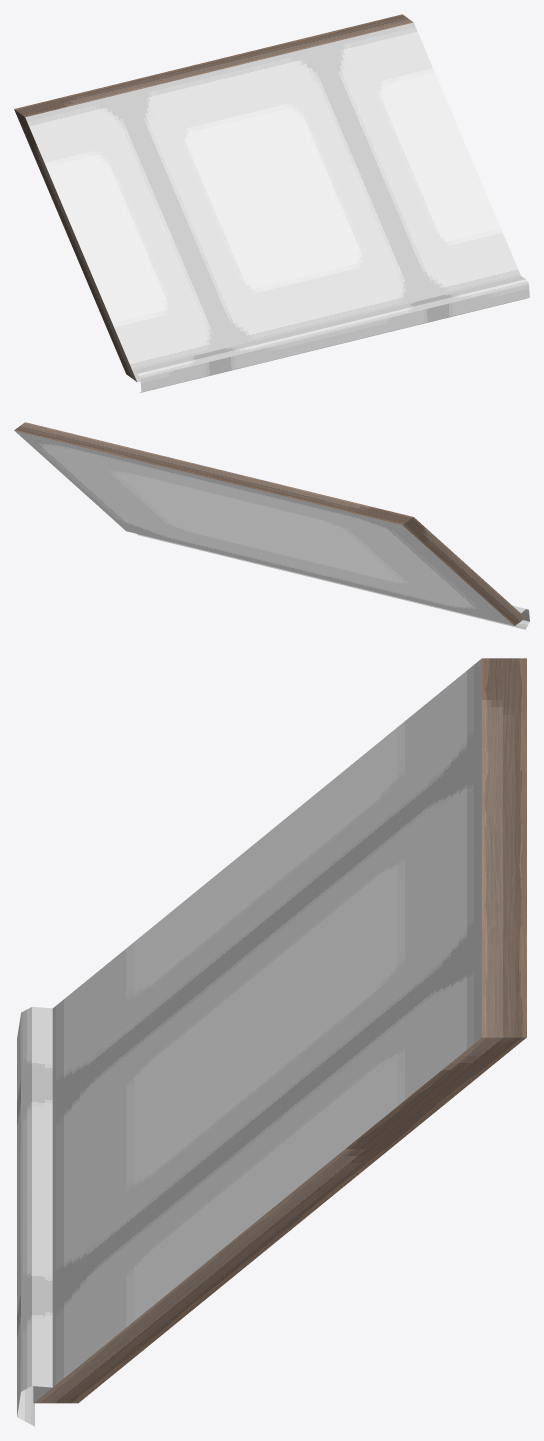
Rendered from SM_Roof_06.fbx.
3 renders of one model, top to bottom at view 1: azimuth 30°, elevation 25°; view 2: azimuth 150°, elevation 25°; view 3: azimuth 270°, elevation 25°, orthographic. The views are drawn at different scales.
Parts seen in each view (by area): view 1: SM_Roof_06_LOD0; view 2: SM_Roof_06_LOD0; view 3: SM_Roof_06_LOD0.
Boxes of the visible parts, box(x1,y1,x2,y2) form: SM_Roof_06_LOD0: box(14, 14, 529, 392); SM_Roof_06_LOD0: box(14, 422, 529, 629); SM_Roof_06_LOD0: box(17, 658, 526, 1426).
Bounding box in the file's own units: 1000 × 568 × 479.
